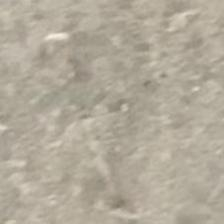Non_Crack: (22, 42, 202, 200)
